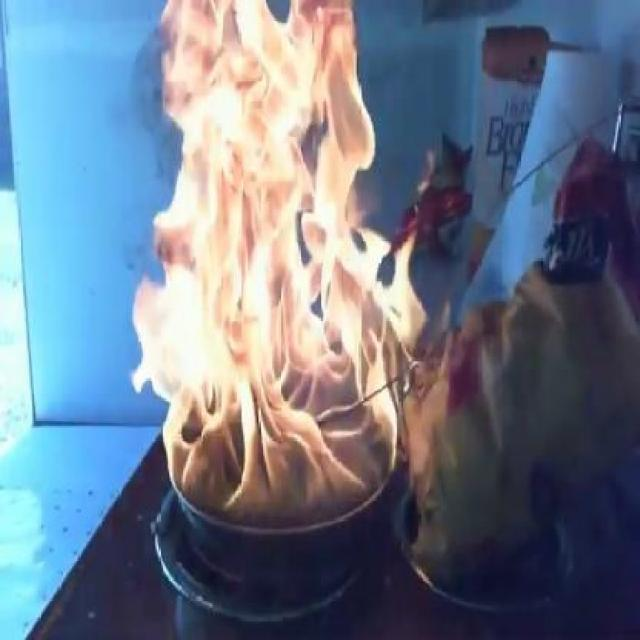fire: (130, 2, 430, 510)
